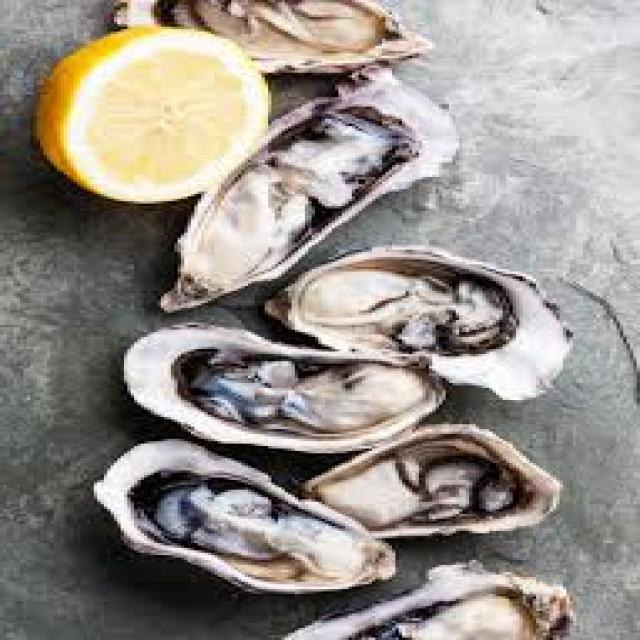Oyster-Open: (161, 70, 456, 312), (265, 248, 569, 399), (95, 440, 395, 592), (125, 324, 446, 454), (309, 424, 562, 538), (121, 0, 429, 74), (284, 564, 574, 639), (475, 330, 549, 399)
